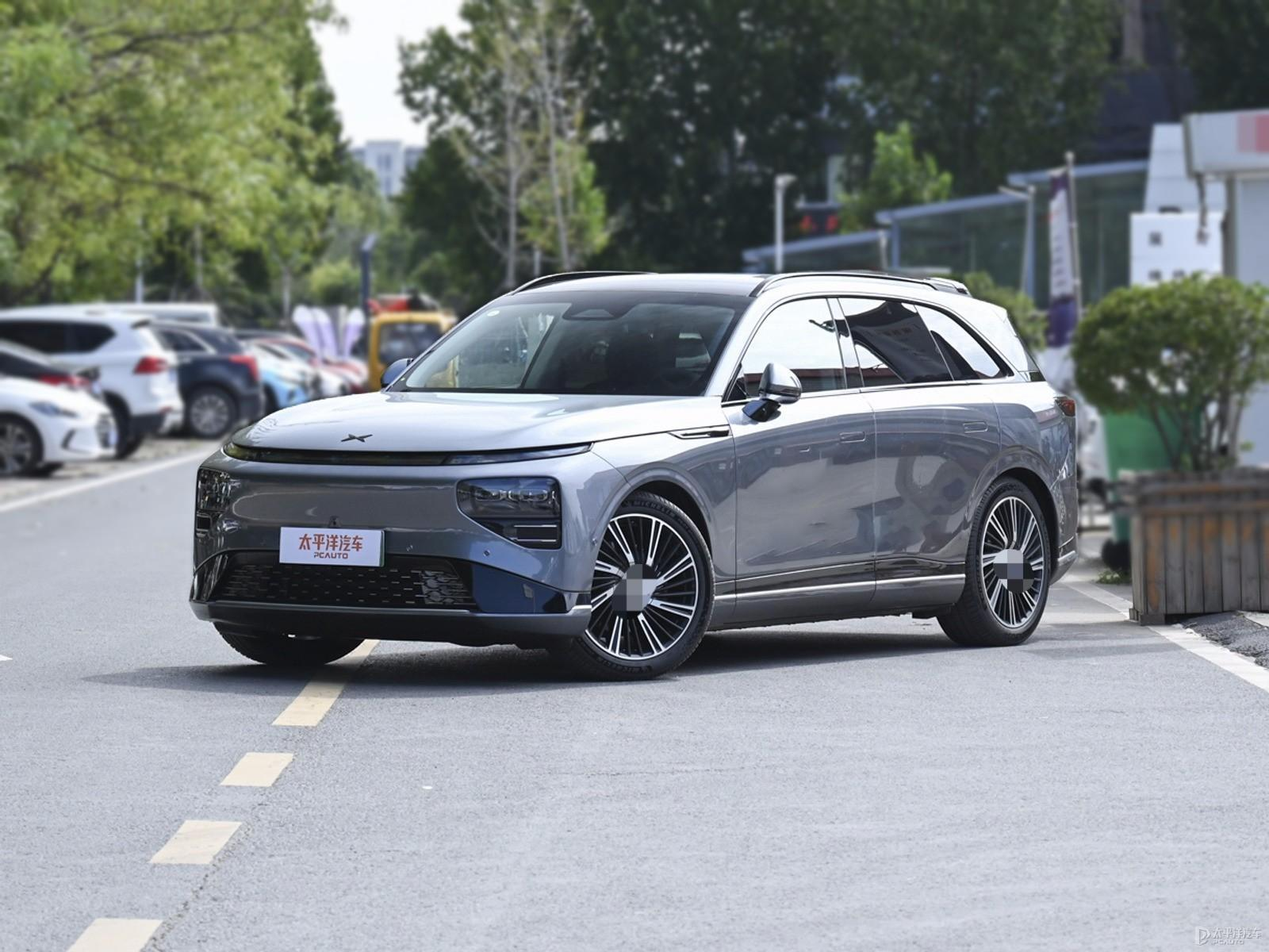XPeng Motors: (341, 434, 374, 443)
